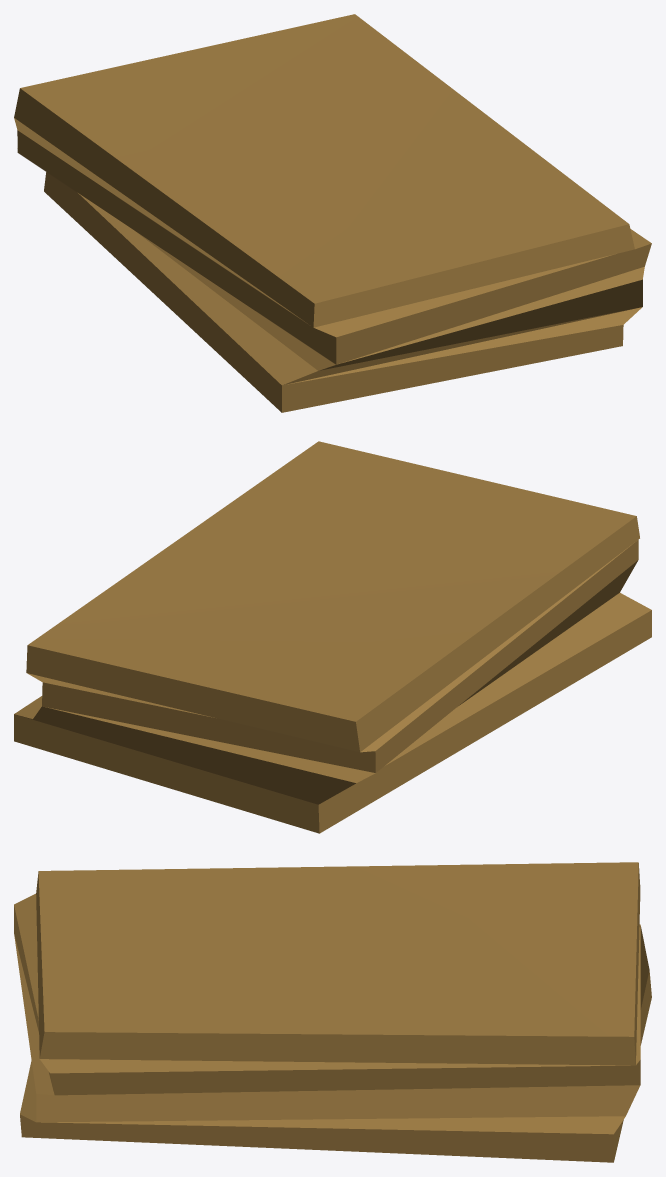
File: woodboardA.fbx
The picture shows the model from 3 angles, top to bottom: view 1: azimuth 30°, elevation 25°; view 2: azimuth 150°, elevation 25°; view 3: azimuth 270°, elevation 25°; orthographic projection. The views are drawn at different scales.
Visible parts, largest first — view 1: SM_Prop_Books_01; view 2: SM_Prop_Books_01; view 3: SM_Prop_Books_01.
Boxes of the visible parts, x1,y1,x2,y2 form: SM_Prop_Books_01: (14, 14, 651, 412); SM_Prop_Books_01: (14, 441, 651, 833); SM_Prop_Books_01: (14, 862, 651, 1162).
Size of the model in its own units: 36.11 by 10.63 by 51.27.
